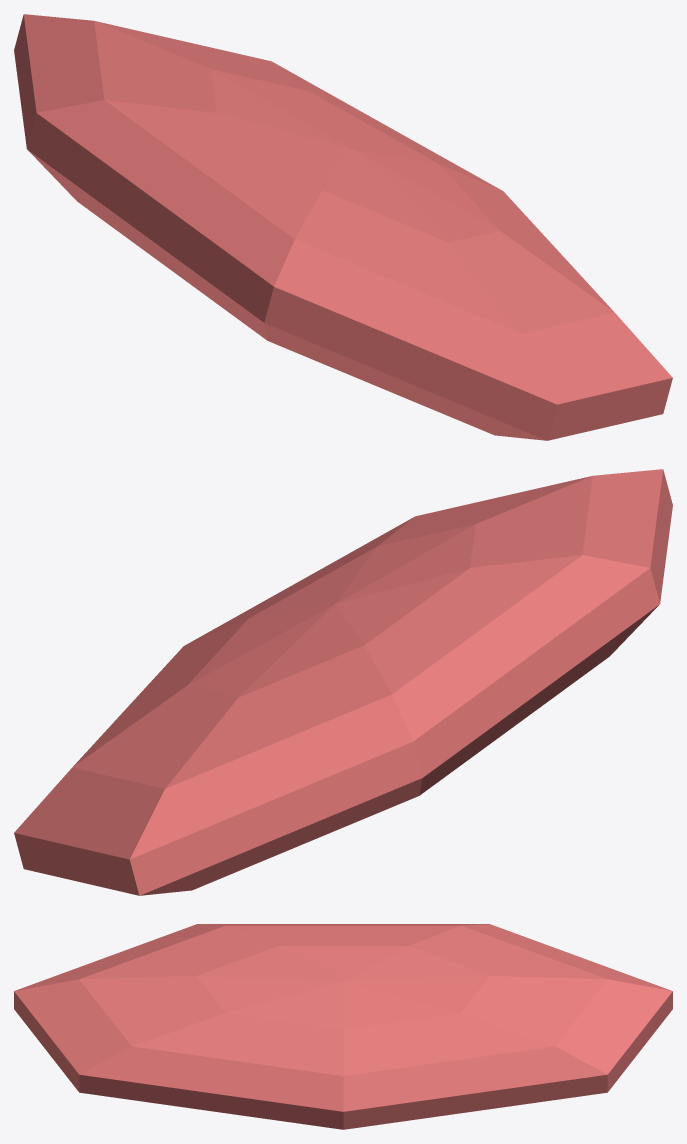
Rendered from RangedAttack.fbx.
3 renders of one model, top to bottom at view 1: azimuth 30°, elevation 25°; view 2: azimuth 150°, elevation 25°; view 3: azimuth 270°, elevation 25°, orthographic. The views are drawn at different scales.
Parts seen in each view (by area): view 1: pasted__pSphere2; view 2: pasted__pSphere2; view 3: pasted__pSphere2.
Boxes of the visible parts, x1,y1,x2,y2 form: pasted__pSphere2: [14, 14, 672, 440]; pasted__pSphere2: [14, 469, 672, 895]; pasted__pSphere2: [14, 924, 672, 1129].
Bounding box in the file's own units: 1.14 × 0.536 × 2.71.
